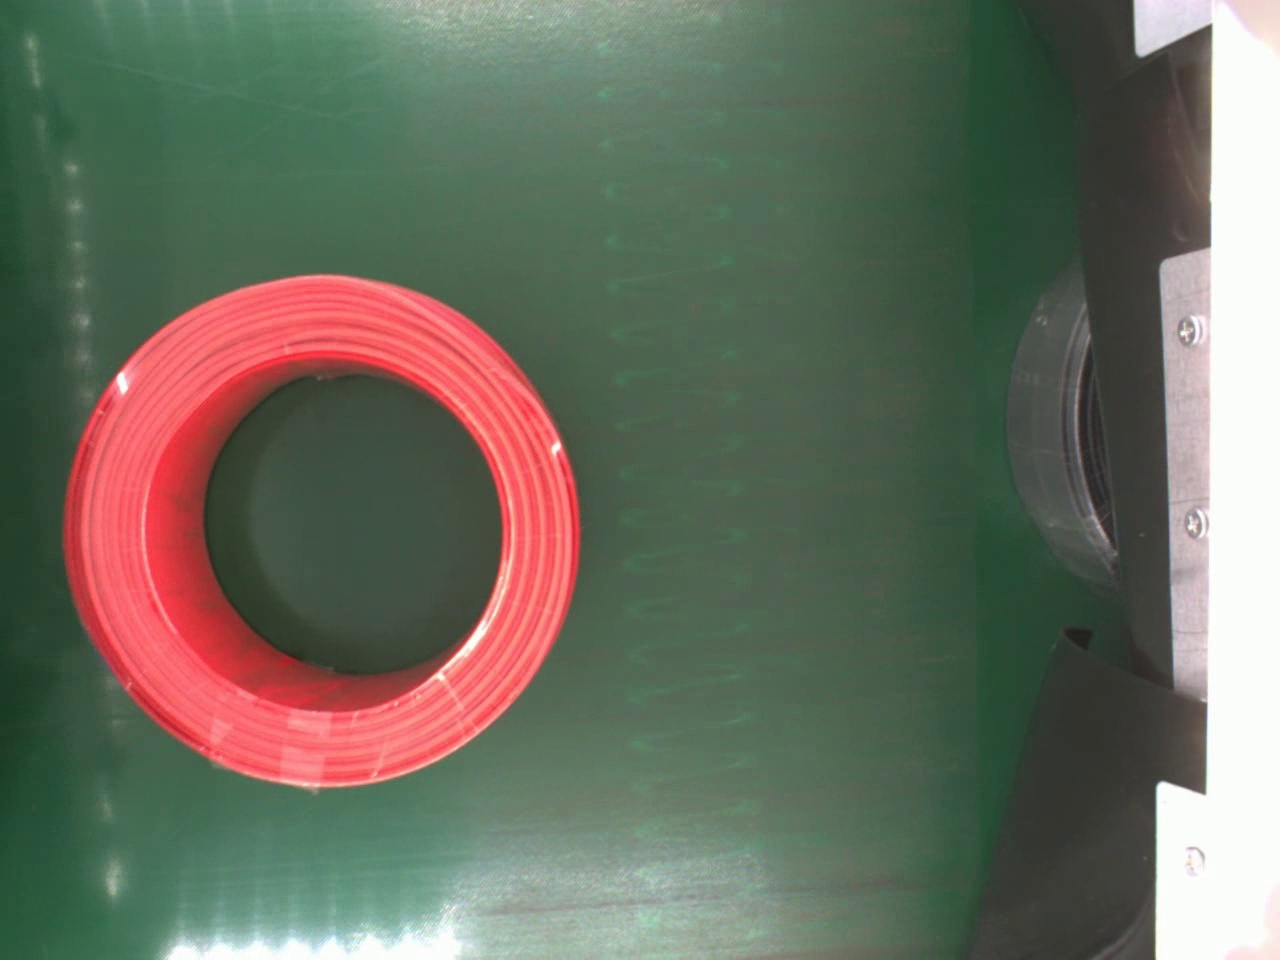black: (1005, 256, 1120, 589)
red: (60, 269, 584, 797)
